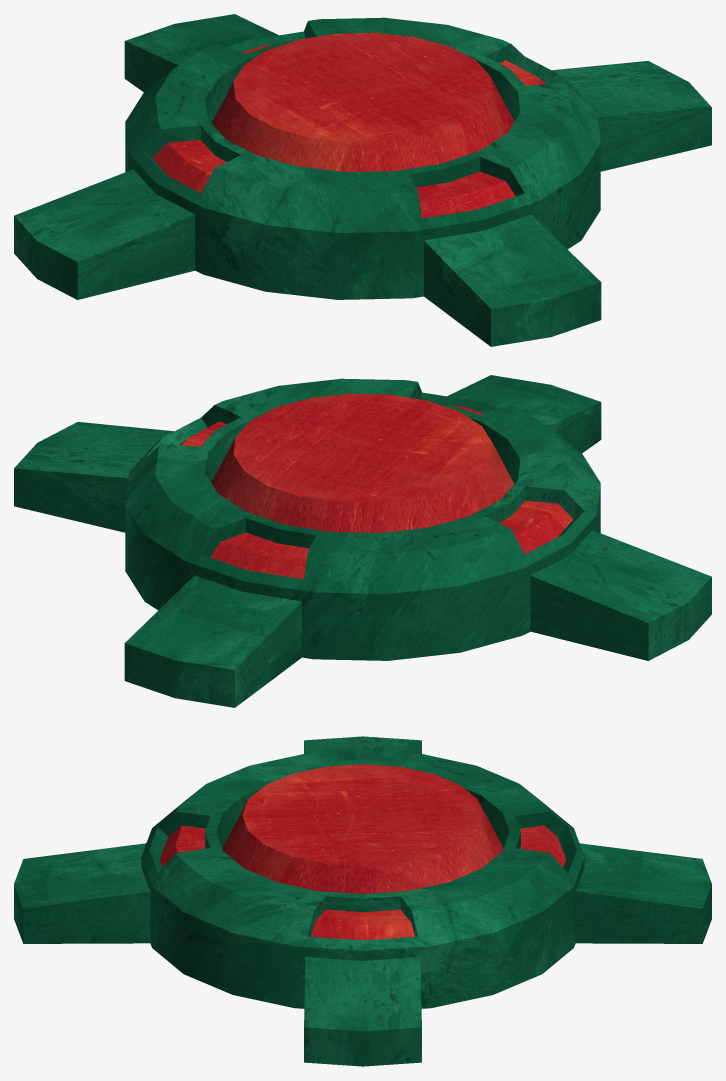
File: Landmine.fbx
The picture shows the model from 3 angles, top to bottom: view 1: azimuth 30°, elevation 25°; view 2: azimuth 150°, elevation 25°; view 3: azimuth 270°, elevation 25°; orthographic projection. The views are drawn at different scales.
Parts seen in each view (by area): view 1: Landmine; view 2: Landmine; view 3: Landmine.
Part boxes in pixels (box(x1,y1,x2,y2)): Landmine: box(14, 14, 711, 346); Landmine: box(14, 375, 711, 707); Landmine: box(14, 736, 711, 1066).
Size of the model in its own units: 19.4 by 3.19 by 19.4.
2 materials, 2 textured.
